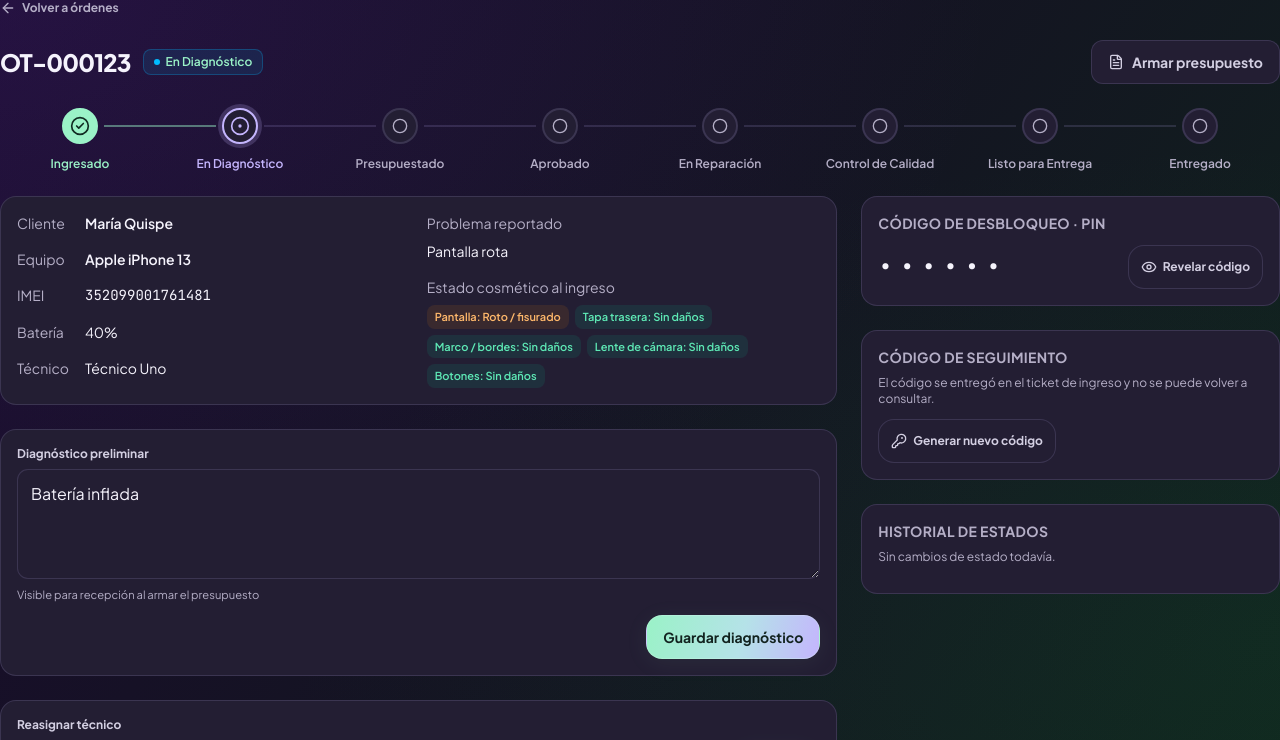
it: WorkOrderDetailPage › shows diagnosis errors from the backend [004/RF-7.2]
Click the button "Guardar diagnóstico": [733, 637] box [646,615,820,659]
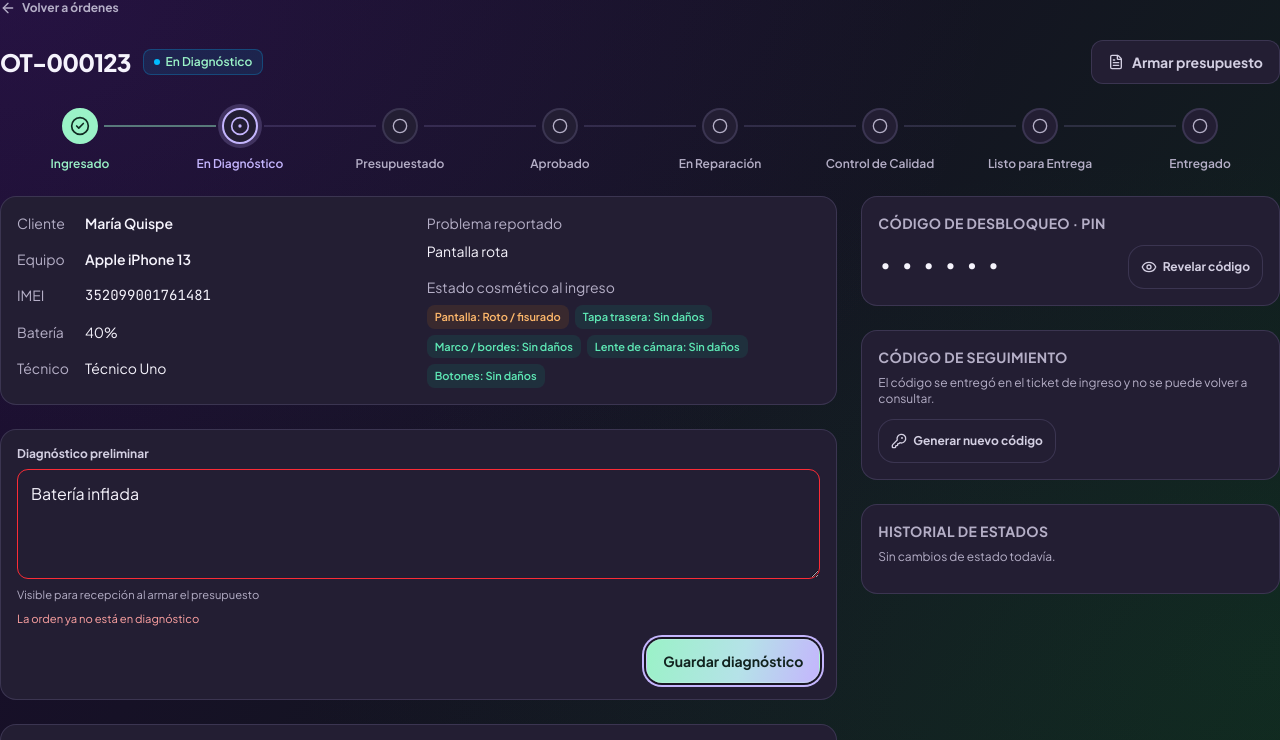
Now the text "La orden ya no está en diagnóstico" is shown, box [17,611,199,625]
